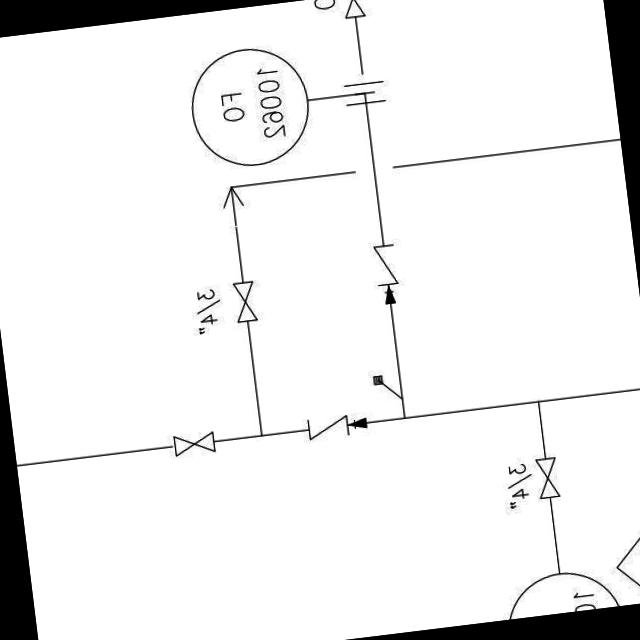GV: (528, 451, 564, 505), (167, 428, 220, 461), (226, 275, 260, 326)
